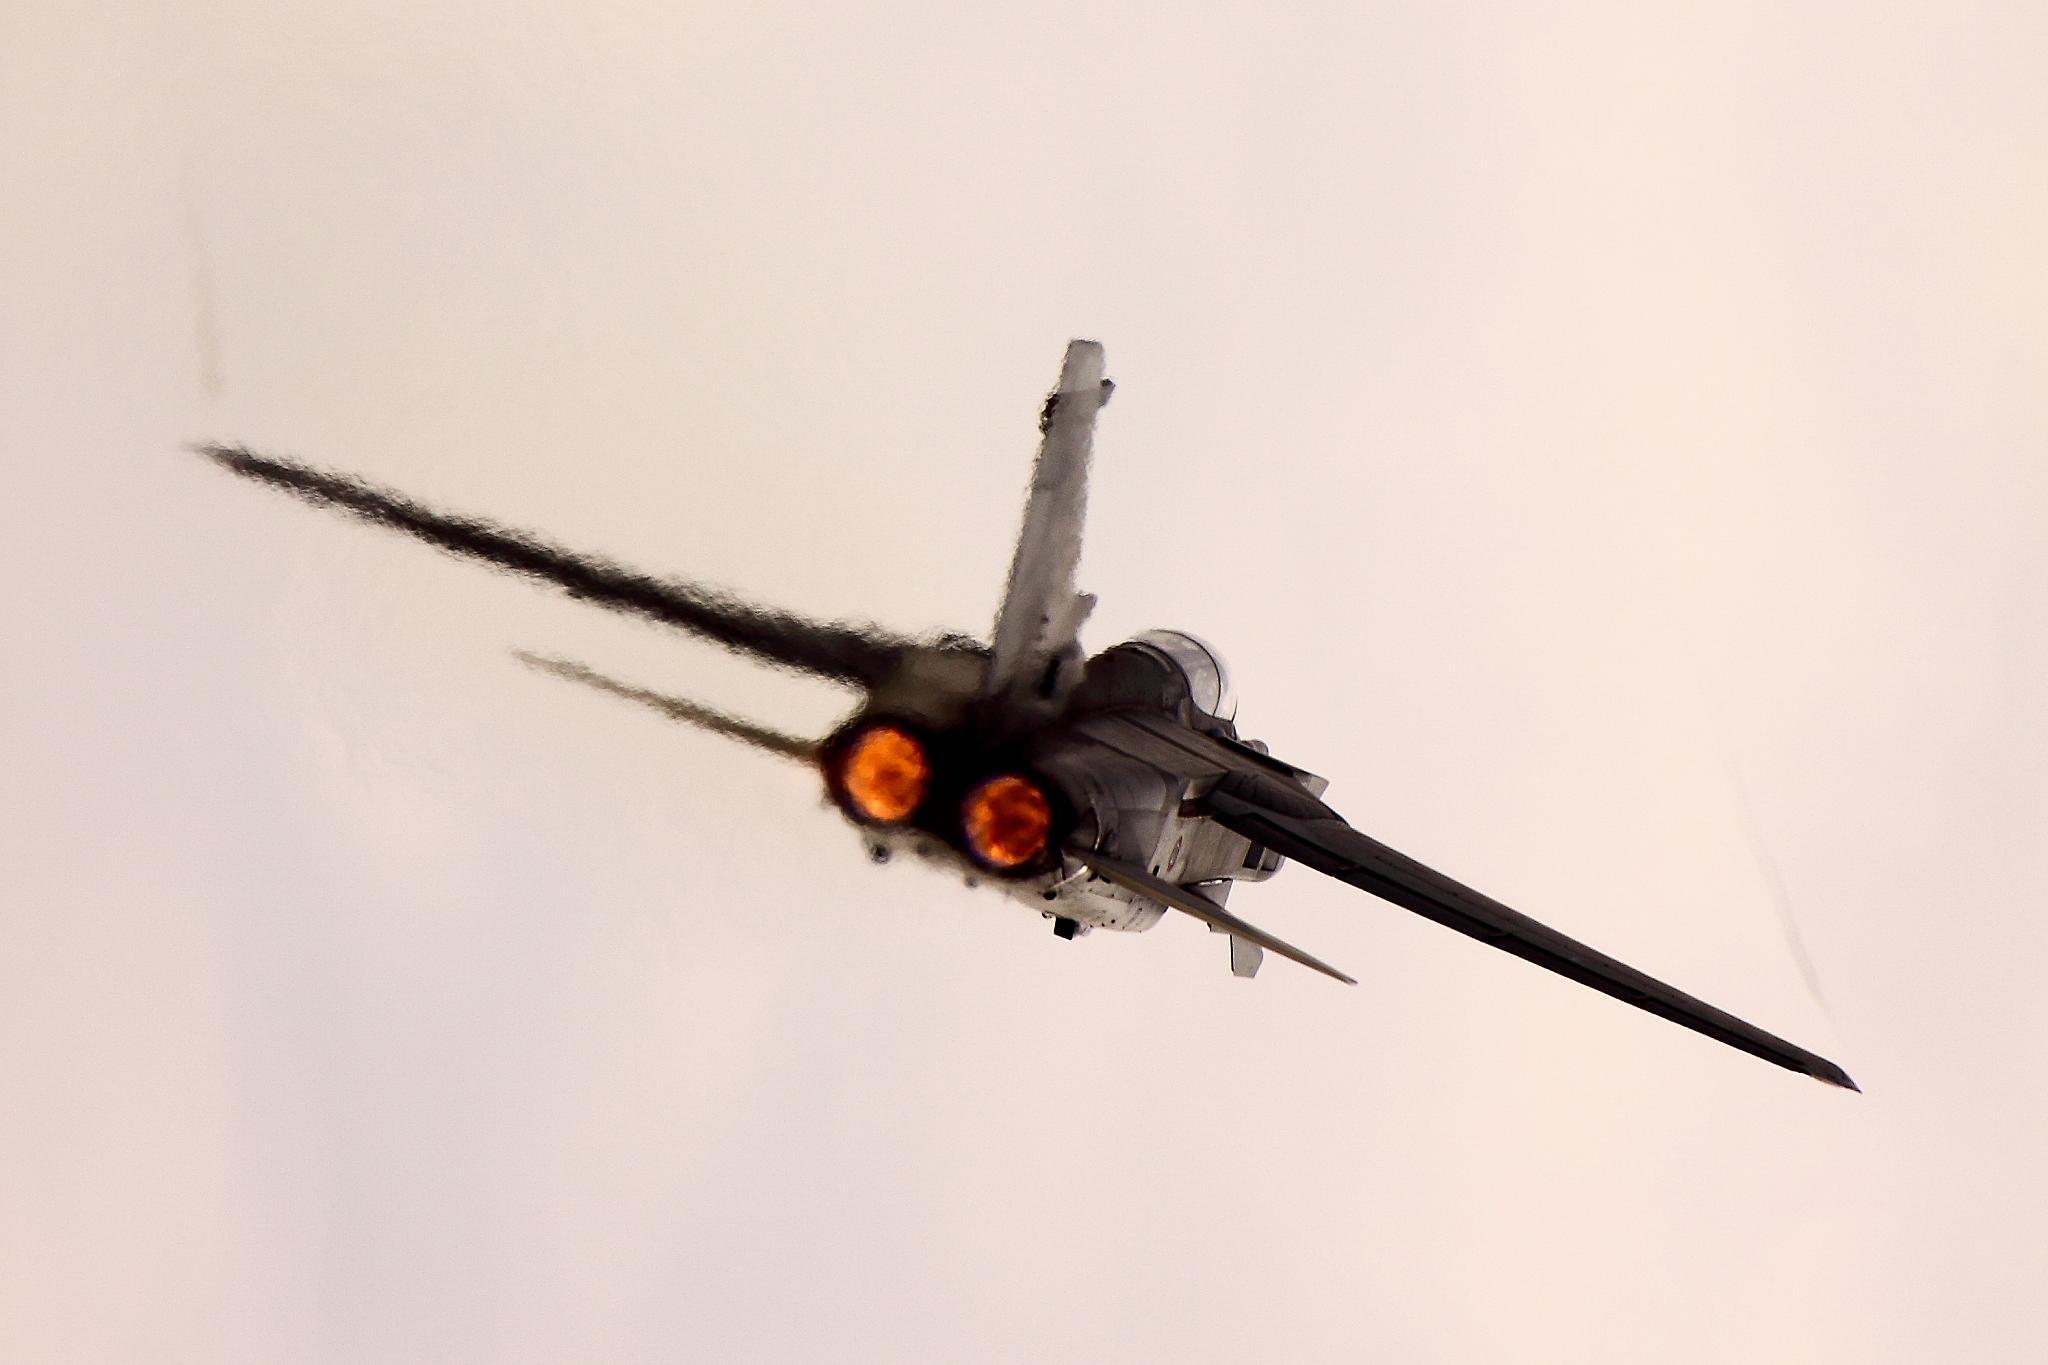Tornado: (177, 337, 1864, 1095)
